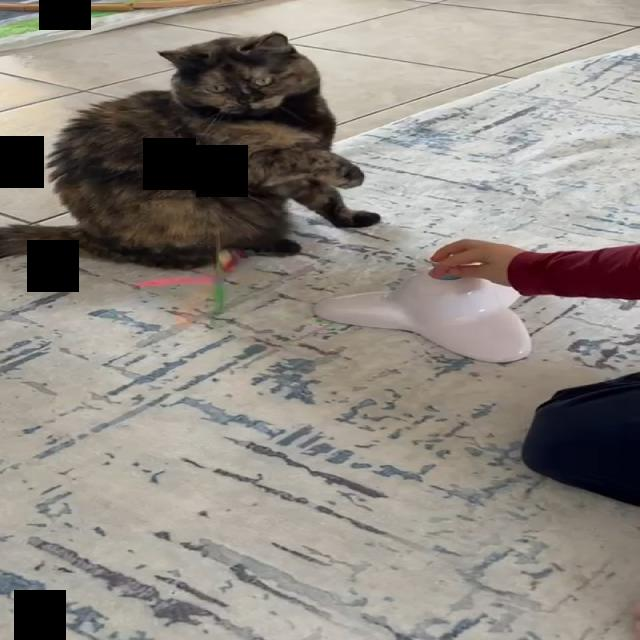authorized: (0, 31, 380, 270)
